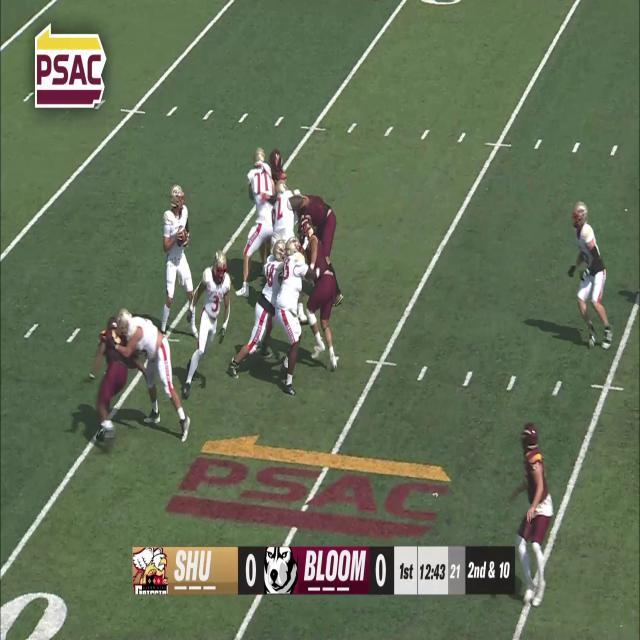football: (176, 224, 188, 247)
